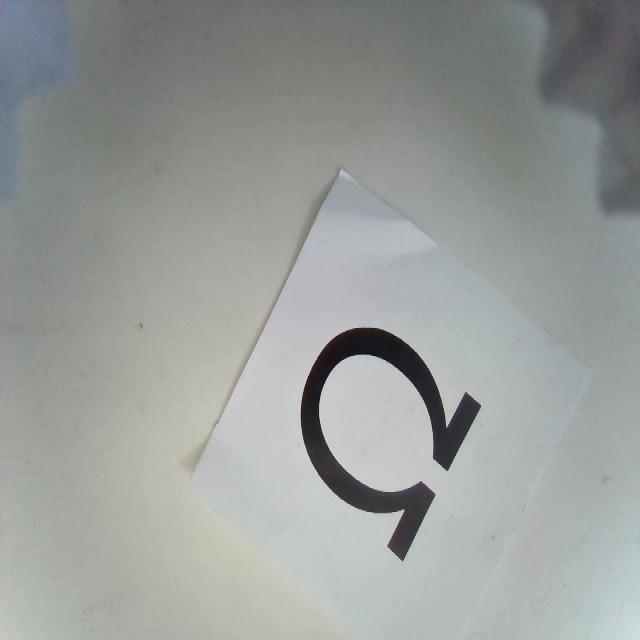OM: (301, 325, 480, 558)
